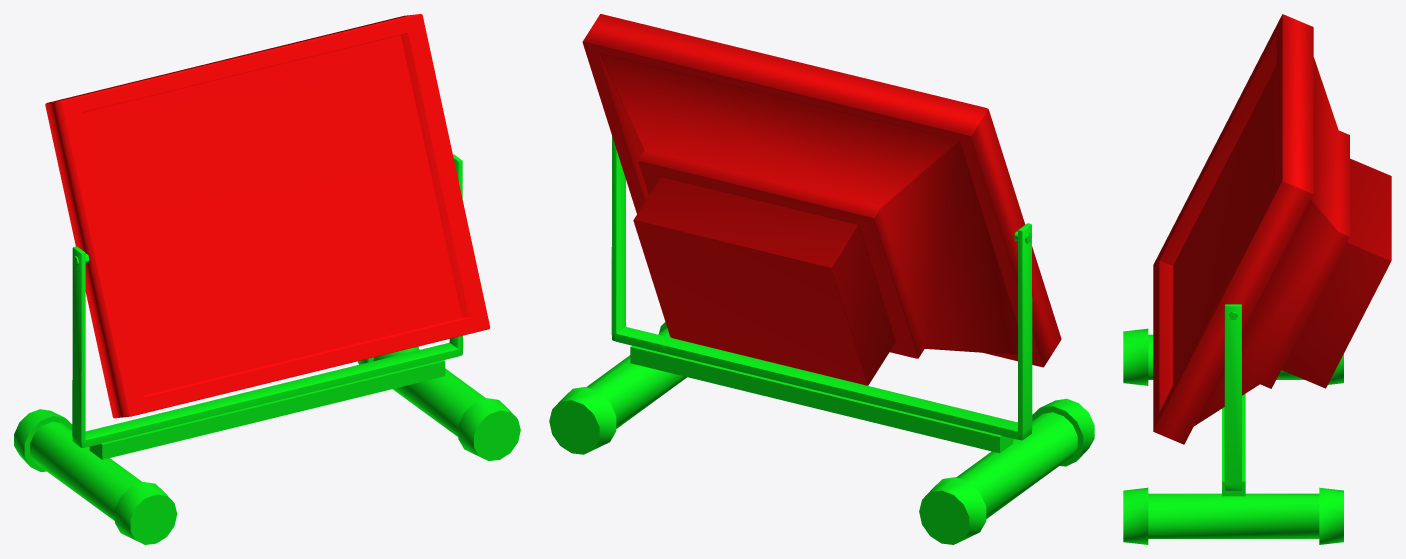
File: foco_1.fbx
3 views of the same model, side by side, from view 1: azimuth 30°, elevation 25°; view 2: azimuth 150°, elevation 25°; view 3: azimuth 270°, elevation 25° (orthographic). The views are drawn at different scales.
Visible parts, largest first — view 1: Box001; view 2: Box001; view 3: Box001.
Part boxes in pixels (x1,y1,x2,y2): Box001: (14,14,520,544); Box001: (549,14,1094,544); Box001: (1123,14,1391,544).
Size of the model in its own units: 0.5474 by 0.5105 by 0.3391.
